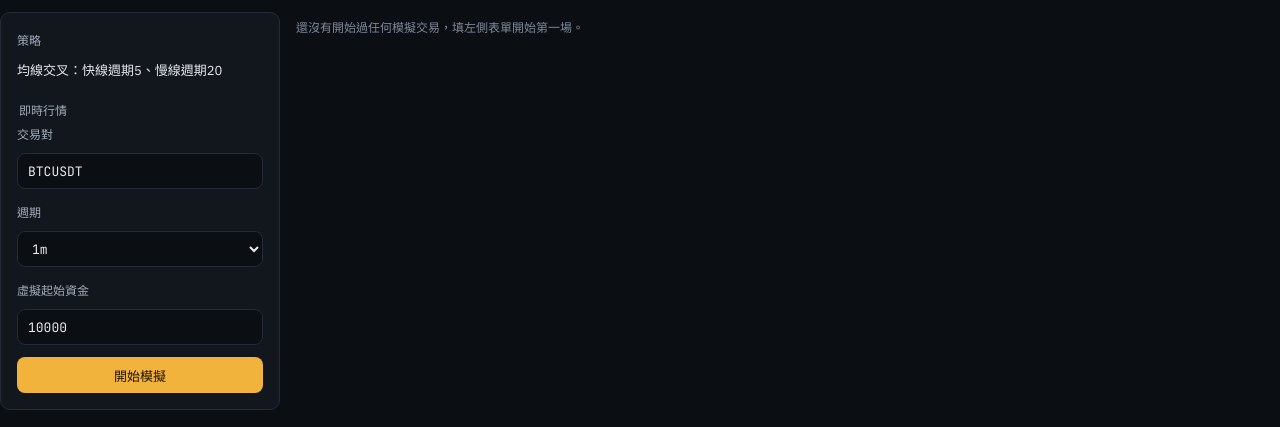
Test: PaperTrading › 送出合法表單時，帶正確的 request 呼叫 start_paper_trading，並顯示執行中狀態
Expected: the text "均線交叉：快線週期5、慢線週期20" is shown, [17, 62, 222, 79]
Replace the text in the field labelled "交易對" with "ethusdt" at (140, 171), box [17, 153, 263, 189]
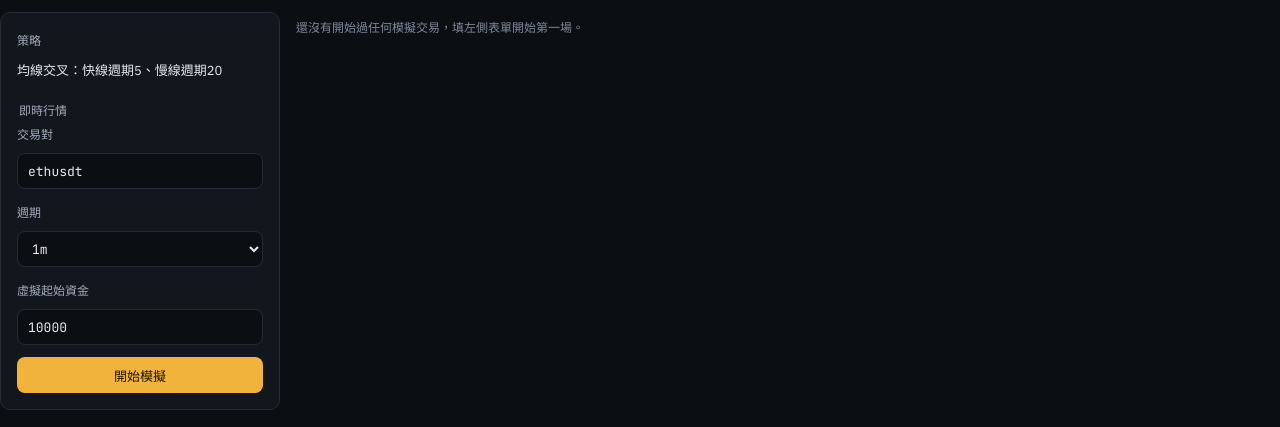
Replace the text in the field labelled "虛擬起始資金" with "5000" at (140, 327), box [17, 309, 263, 345]
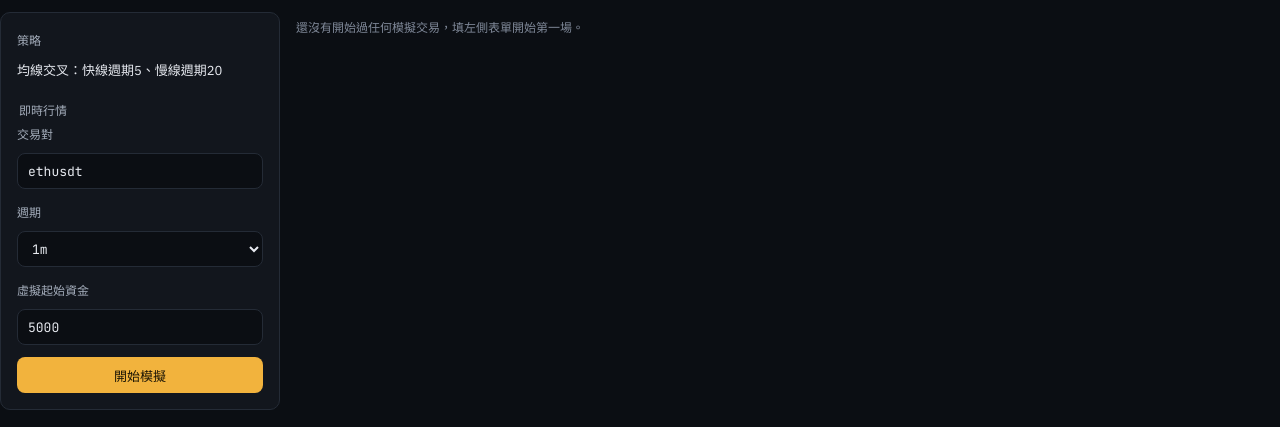
Click the button "開始模擬" at (140, 375), box [17, 357, 263, 393]
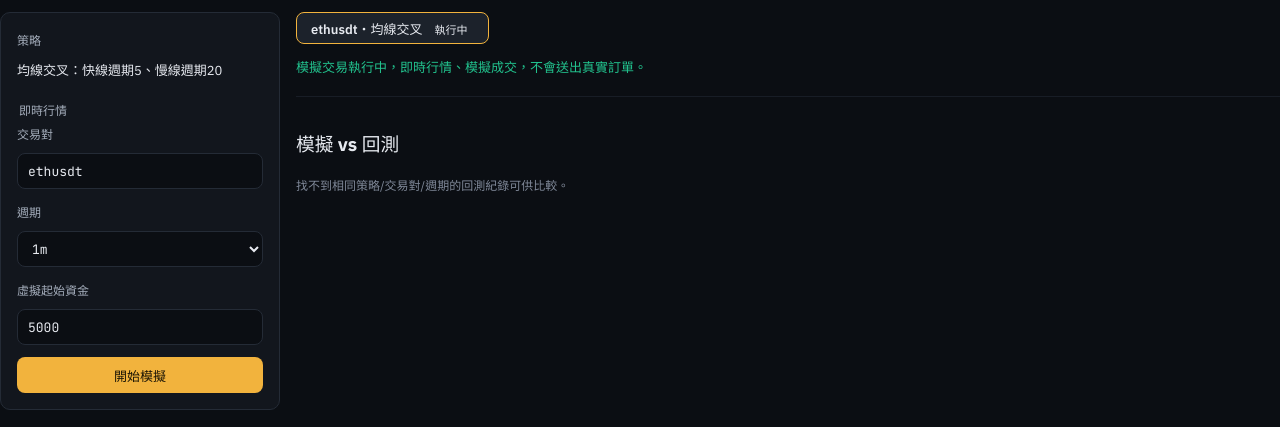
Result: the message shows "模擬交易執行中" at [296, 59, 647, 76]
